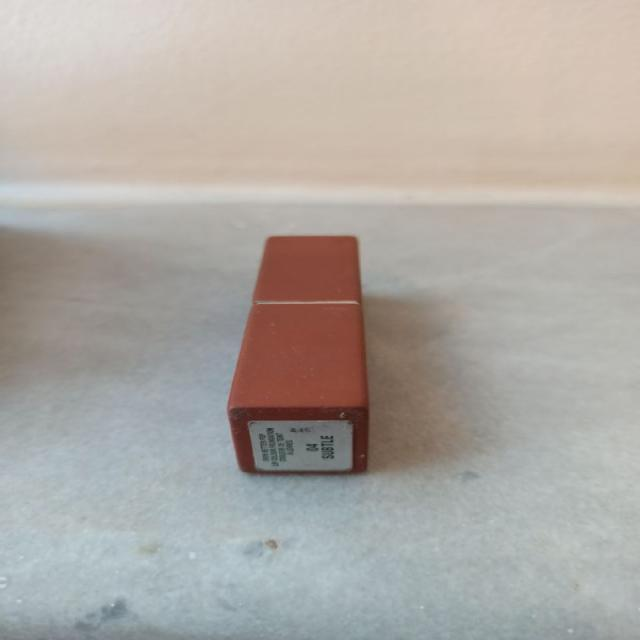lipstick: (226, 235, 370, 474)
